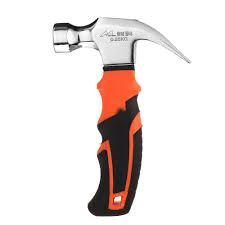hammer: (50, 14, 192, 217)
